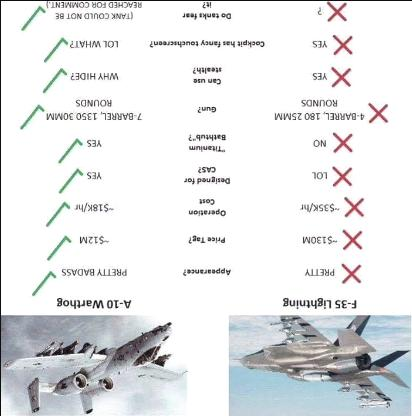A10: (1, 321, 186, 415)
F22: (228, 315, 409, 409)
